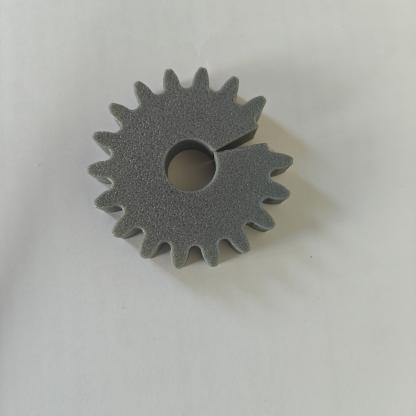defect: (189, 93, 299, 171)
gear: (75, 60, 311, 289)
